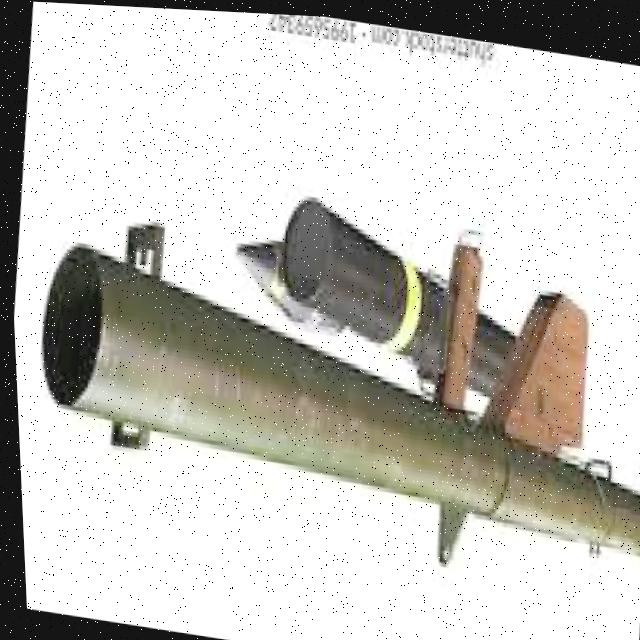rocket: (16, 165, 640, 583)
